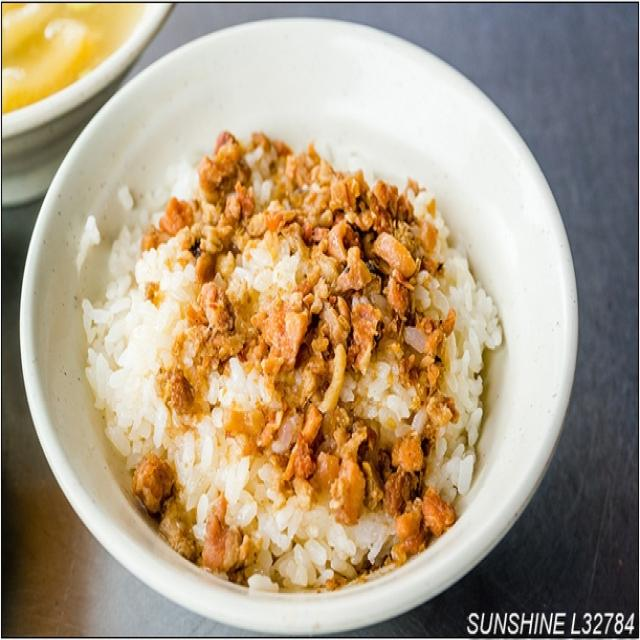猪肉菜式: (32, 42, 555, 618)
